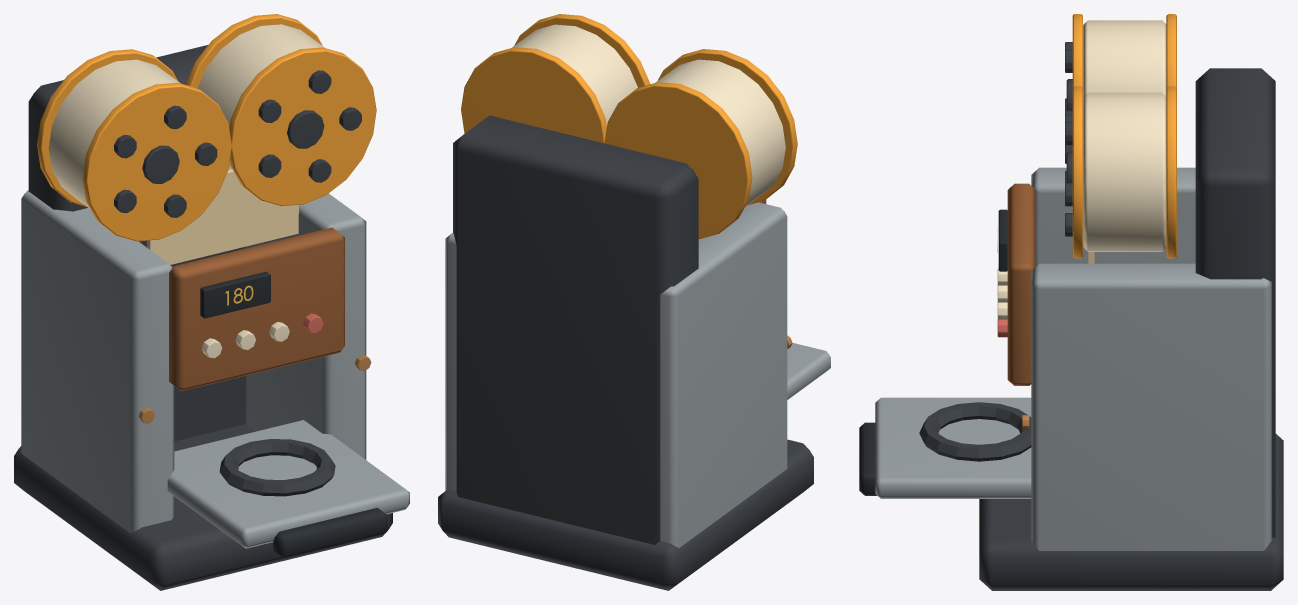
File: cup_sealing_machine.fbx
3 views of the same model, side by side, from view 1: azimuth 30°, elevation 25°; view 2: azimuth 150°, elevation 25°; view 3: azimuth 270°, elevation 25° (orthographic). The views are drawn at different scales.
Visible parts, largest first — view 1: cup_sealing_machine; view 2: cup_sealing_machine; view 3: cup_sealing_machine.
Part boxes in pixels (x1,y1,x2,y2): cup_sealing_machine: [14, 14, 409, 590]; cup_sealing_machine: [438, 14, 830, 590]; cup_sealing_machine: [859, 14, 1283, 590].
Size of the model in its own units: 0.43 by 0.658 by 0.53.
